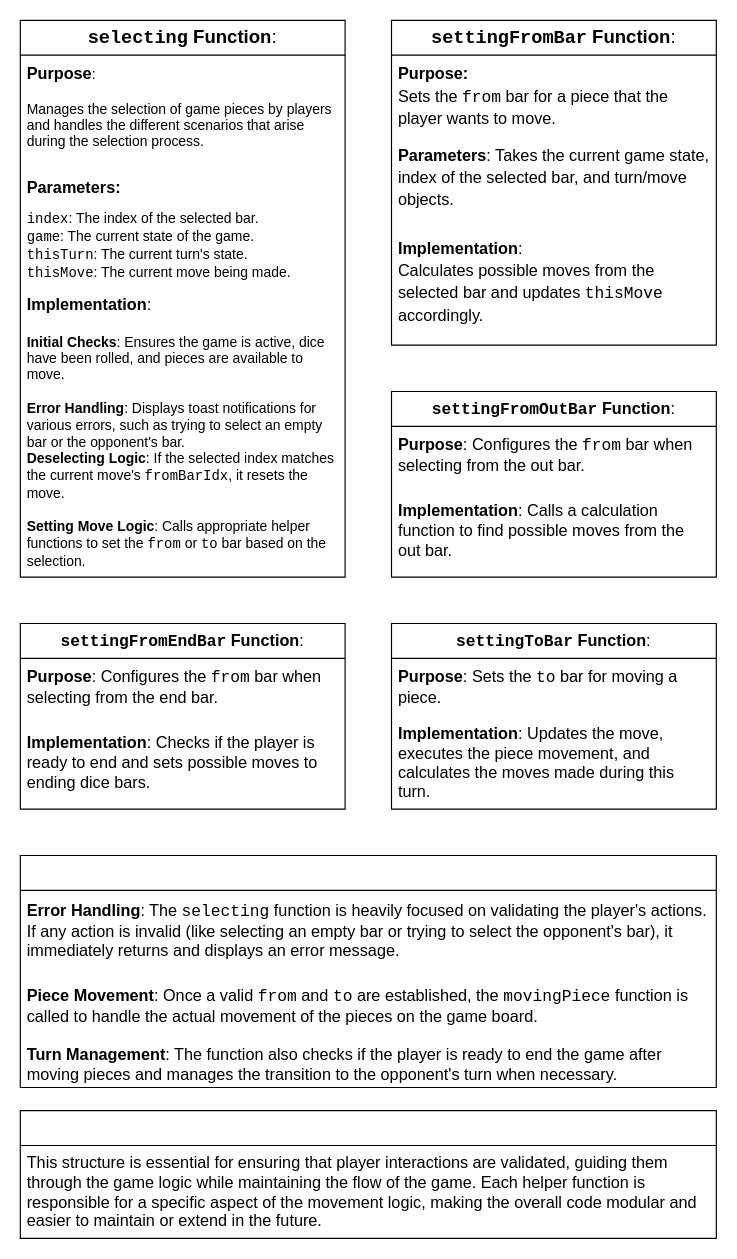
This 737x1259 diagram has some shape labels left out. The shapes that lost their labels are listed below. From the top down, each one's box as (x1, y1, x2, y2) in pixels, then its label:
(19, 854, 716, 1088): Key Logic
(19, 1110, 716, 1238): Usage
